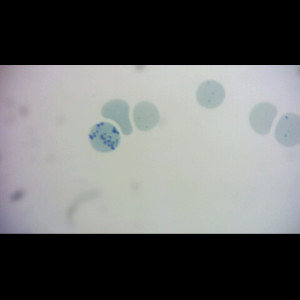aggregate reticulocyte: (87, 120, 122, 154)
erythrocyte: (99, 98, 134, 137), (248, 101, 278, 136)
punctate reticulocyte: (194, 79, 226, 111), (130, 100, 161, 133)
